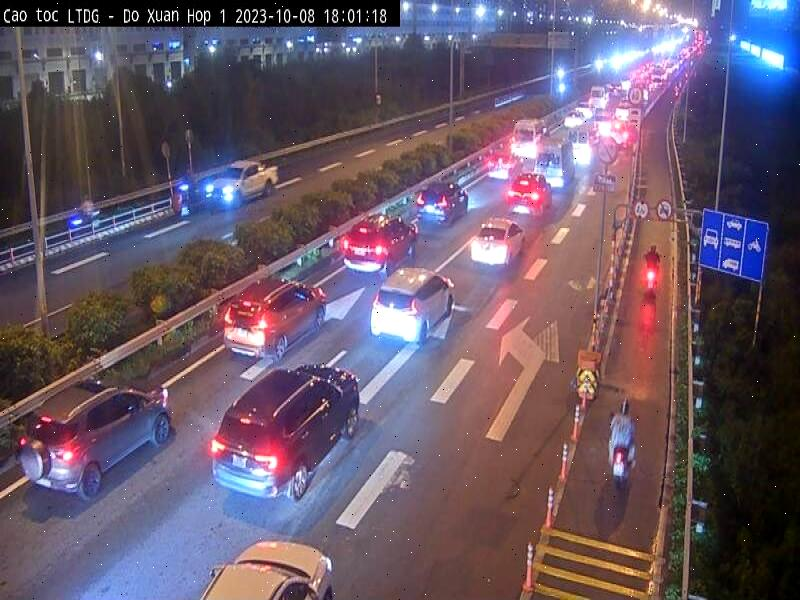car: (20, 371, 171, 504), (214, 362, 361, 498), (222, 279, 328, 358), (202, 539, 335, 600), (341, 216, 418, 277), (205, 158, 280, 211)
